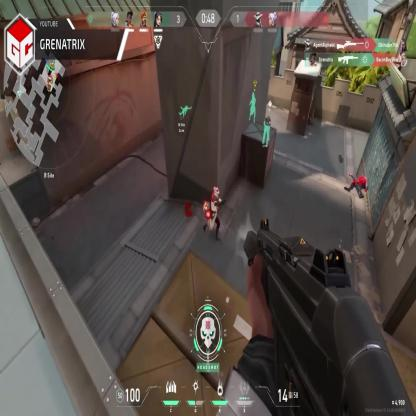enemy: (203, 185, 221, 239)
enemy_head: (214, 186, 219, 196)
